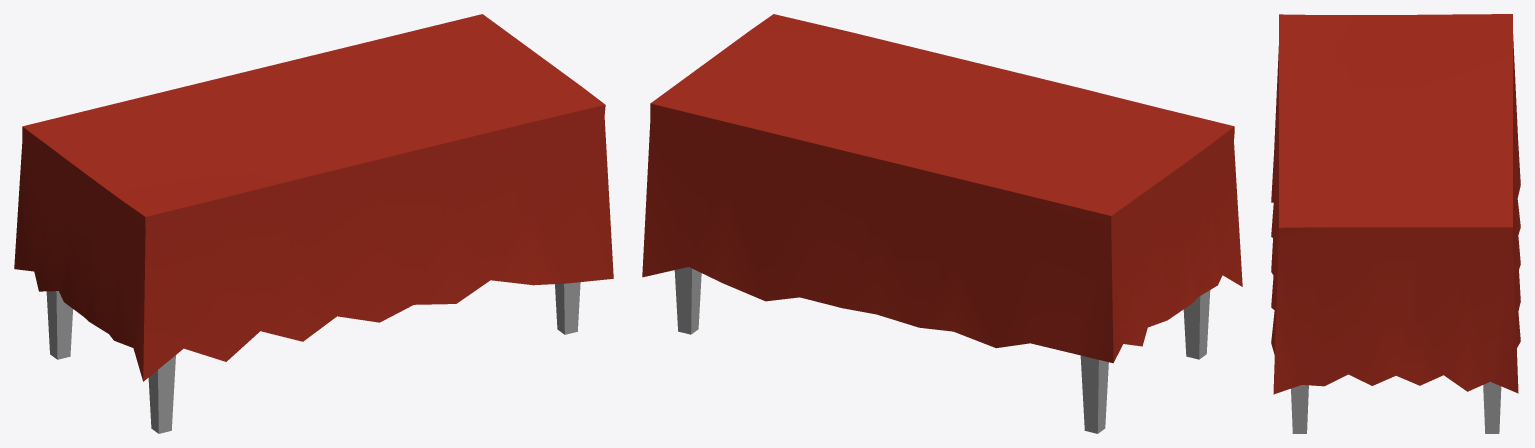
Rendered from Table.fbx.
3 views of the same model, side by side, from view 1: azimuth 30°, elevation 25°; view 2: azimuth 150°, elevation 25°; view 3: azimuth 270°, elevation 25° (orthographic). The views are drawn at different scales.
Parts seen in each view (by area): view 1: TableBlanket, table; view 2: TableBlanket, table; view 3: TableBlanket, table.
Part boxes in pixels (left/top/right/bottom): TableBlanket: left=14, top=14, right=613, bottom=381; table: left=46, top=282, right=580, bottom=433; TableBlanket: left=642, top=14, right=1242, bottom=363; table: left=674, top=267, right=1210, bottom=433; TableBlanket: left=1271, top=14, right=1520, bottom=394; table: left=1291, top=382, right=1501, bottom=433.
Size of the model in its own units: 65.39 by 29.99 by 31.37.
